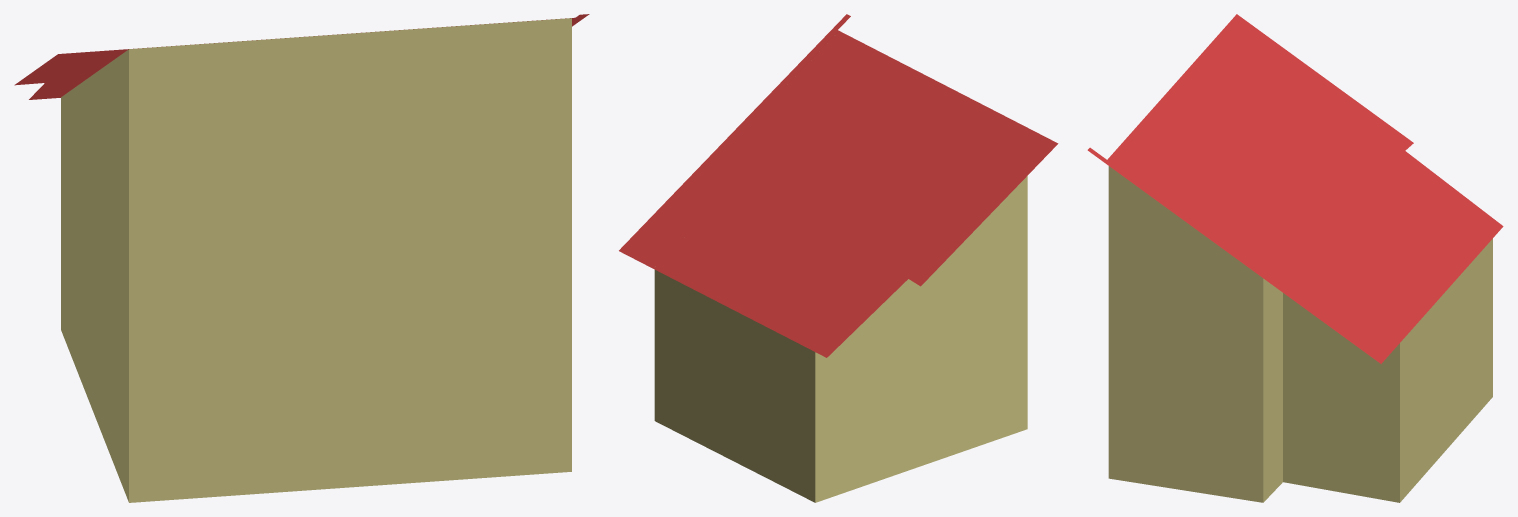
The picture shows the model from 3 angles, left to right: view 1: azimuth 30°, elevation 25°; view 2: azimuth 150°, elevation 25°; view 3: azimuth 270°, elevation 25°; orthographic projection. The views are drawn at different scales.
Bounding box in the file's own units: 12.02 × 10.97 × 9.58.
